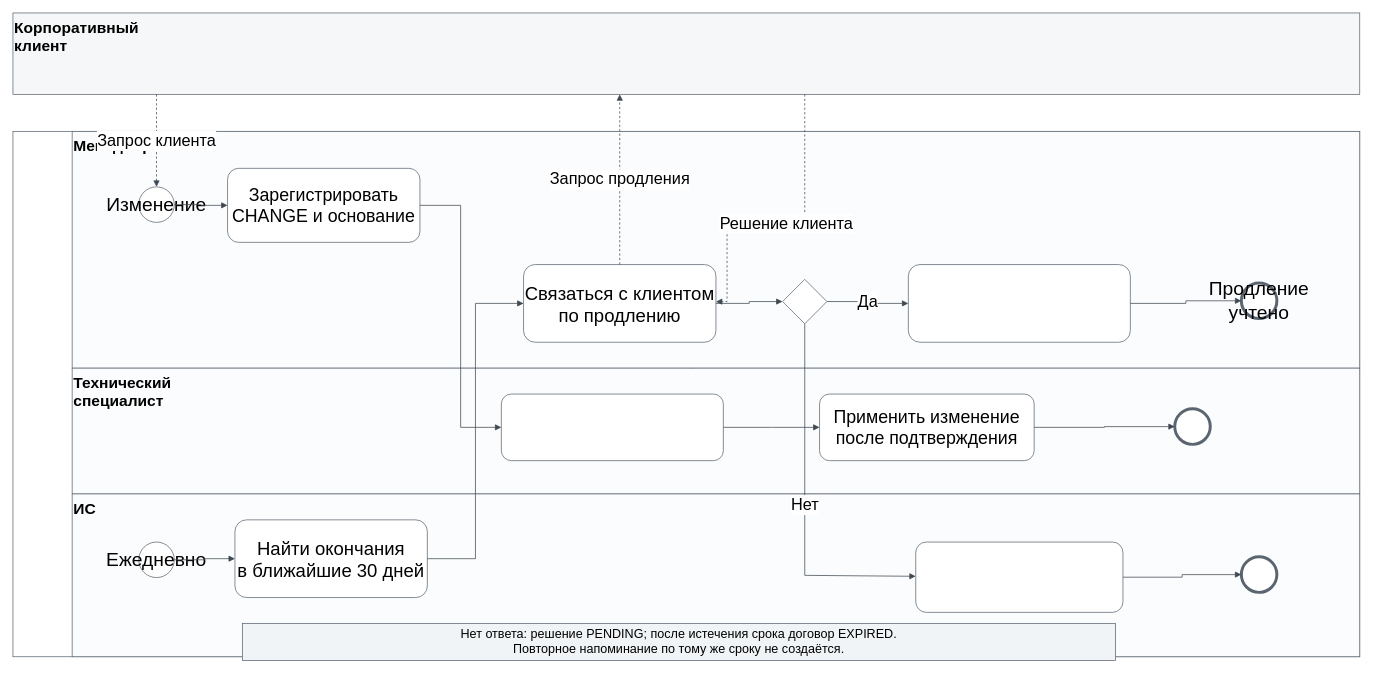
This 1373x673 diagram has some shape labels left out. The shapes that lost their labels are listed below. From the top down, each one's centre as x and y in pixels, then its label:
At pixel 804 301: "Согласен?".
At pixel 1019 303: "Учесть подписанное продление и новый срок".
At pixel 612 427: "Проверить подписанное основание изменения".
At pixel 1192 426: "Условия изменены".
At pixel 1019 576: "Учесть отказ без изменения срока".
At pixel 1259 574: "Отказ учтён".
